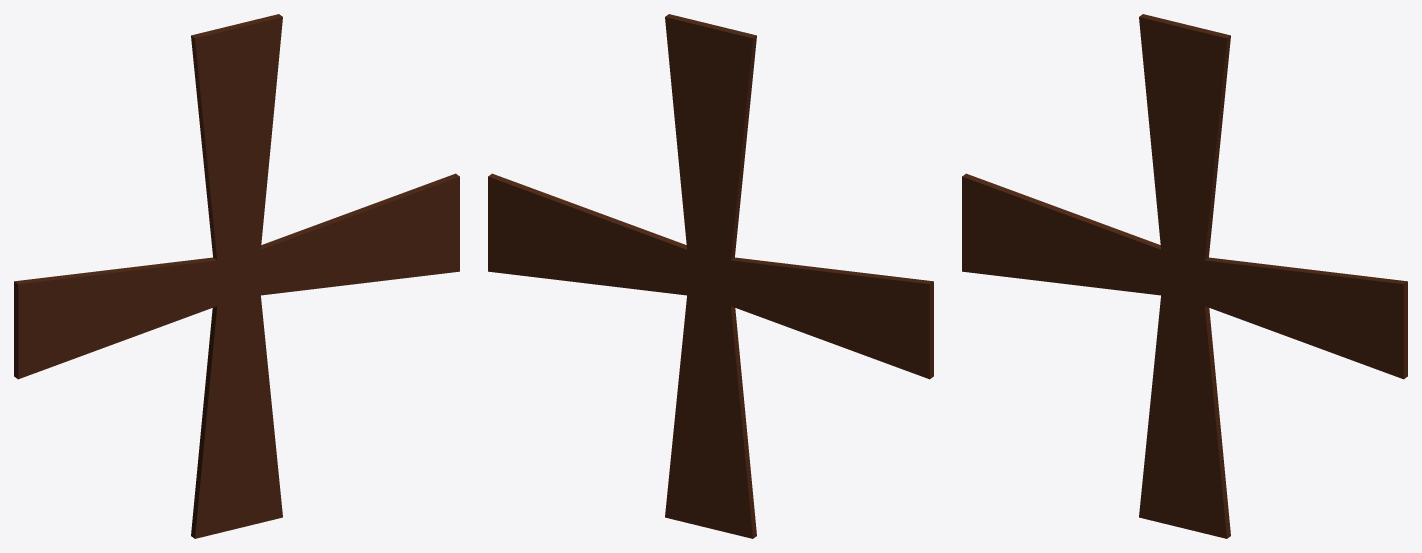
File: ProtoWindmillSail1.fbx
The picture shows the model from 3 angles, left to right: view 1: azimuth 30°, elevation 25°; view 2: azimuth 150°, elevation 25°; view 3: azimuth 330°, elevation 25°; orthographic projection.
Visible parts, largest first — view 1: WindMill_Sail; view 2: WindMill_Sail; view 3: WindMill_Sail.
Part boxes in pixels (x1=…): WindMill_Sail: x1=14, y1=14, x2=459, y2=538; WindMill_Sail: x1=488, y1=14, x2=933, y2=538; WindMill_Sail: x1=962, y1=14, x2=1407, y2=538.
Bounding box in the file's own units: 150 × 162 × 2.4.
